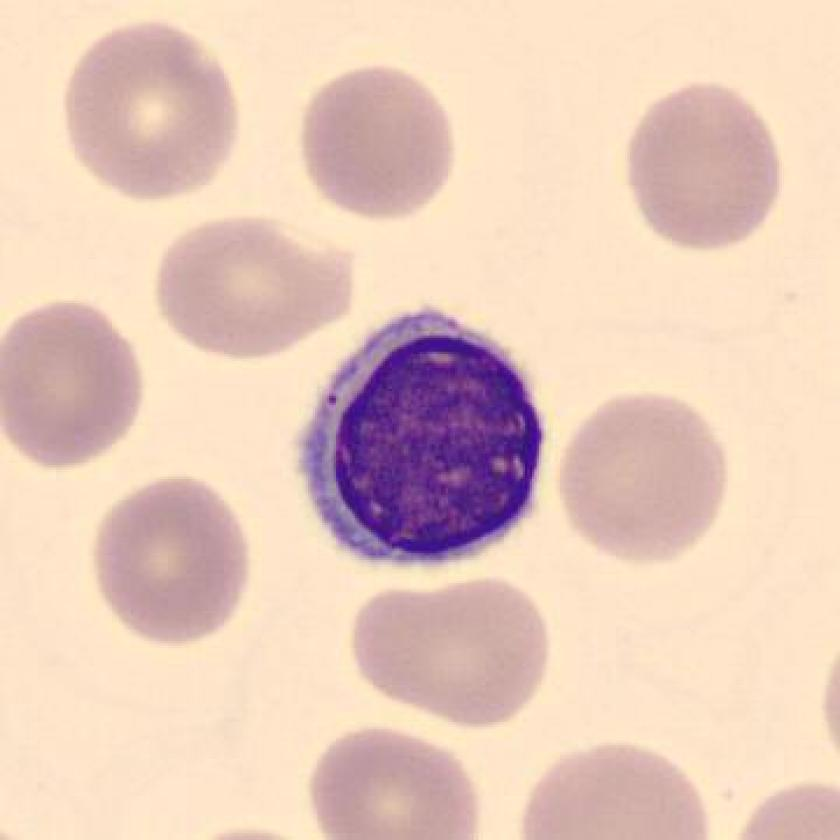lymphocyte: (276, 286, 582, 591)
